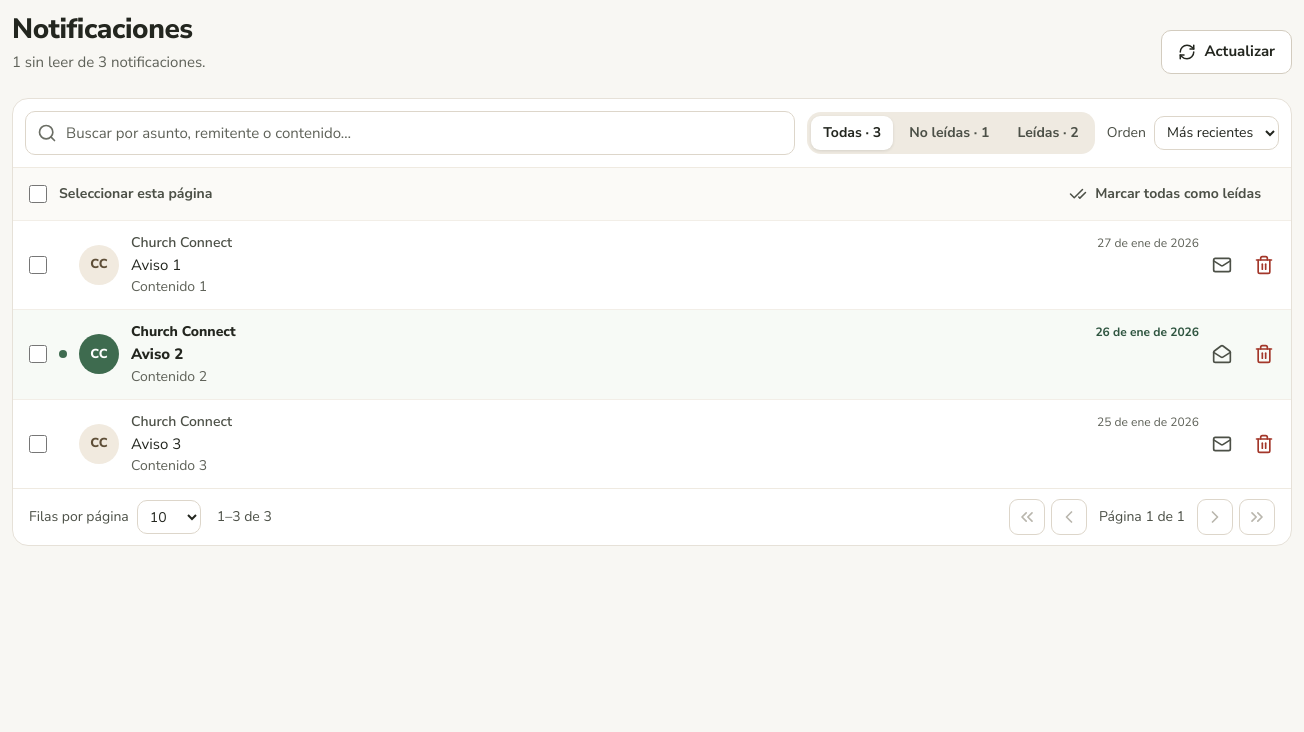
Test: Bandeja de notificaciones › marca varias seleccionadas a la vez, solo las que cambian
Expected: the text "Aviso 1" is shown, [131,254,181,274]
Click the checkbox labelled "Seleccionar esta página".
click(38, 194)  # box [29,184,47,202]
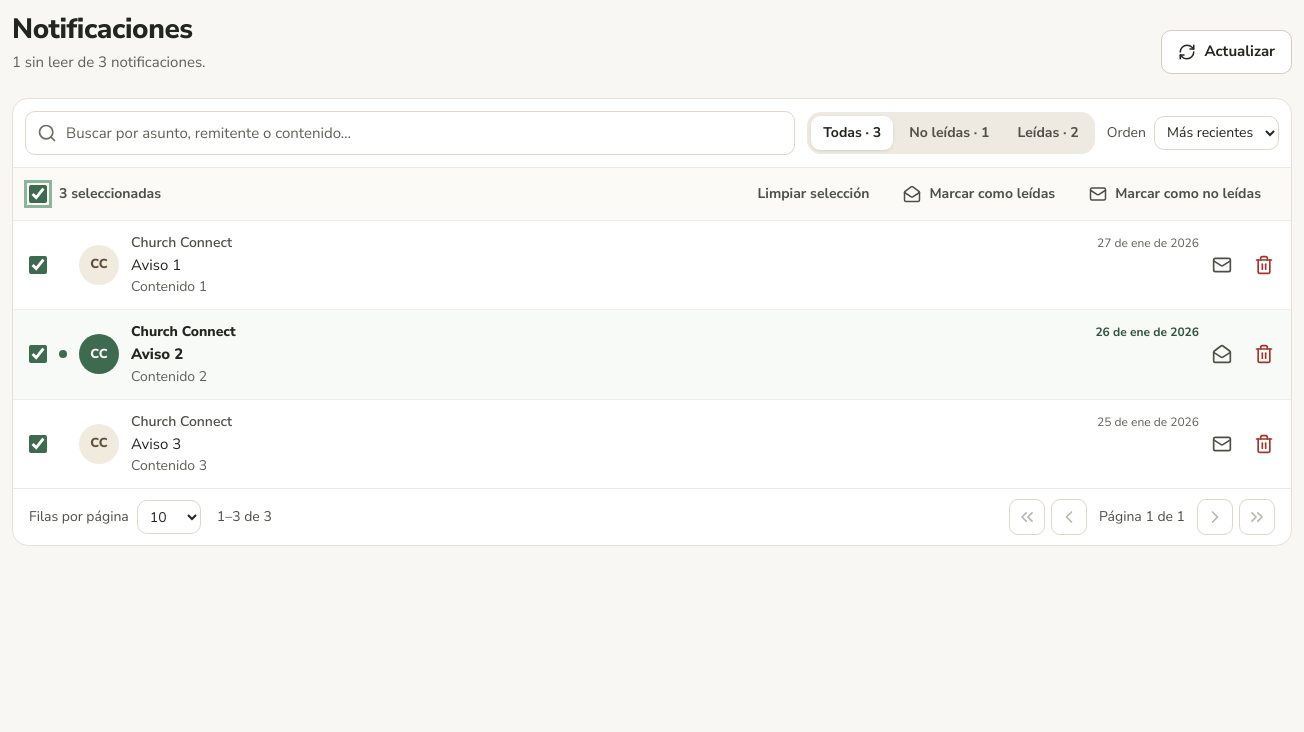
Expected: the text "3 seleccionadas" is shown, [29,184,161,204]
Click the button "Marcar como no leídas".
click(1175, 194)  # box [1075,174,1275,214]
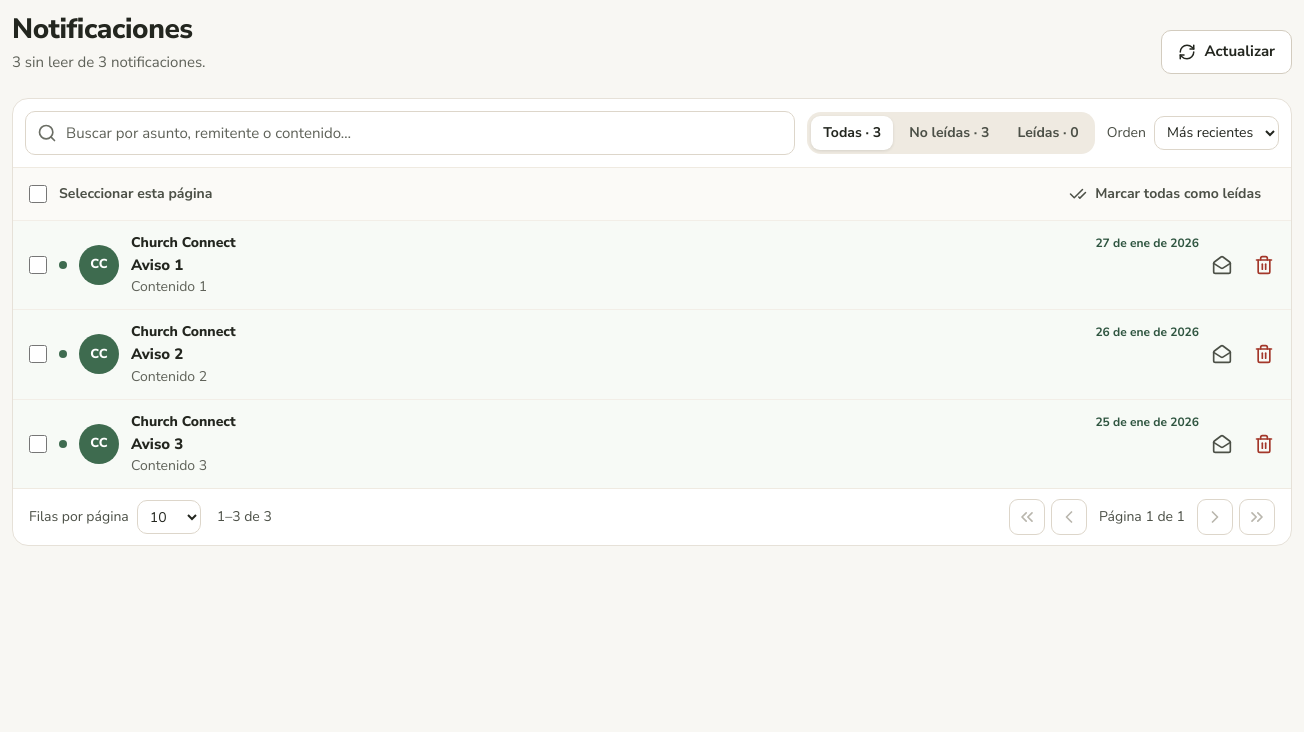
Expected: the text "3 sin leer de 3 notificaciones." is shown, [12,51,206,74]
